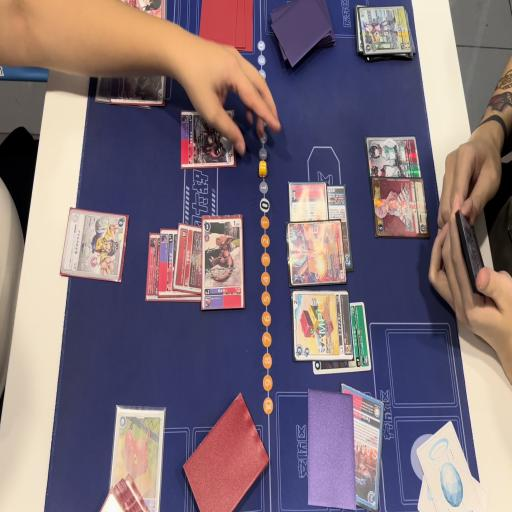card: (108, 402, 167, 512), (338, 382, 384, 512), (59, 212, 132, 283), (200, 212, 246, 318), (292, 289, 350, 364), (311, 302, 369, 376), (285, 216, 343, 288), (179, 108, 237, 172), (364, 132, 423, 192), (372, 178, 428, 240), (112, 58, 168, 108), (325, 179, 354, 274), (360, 4, 409, 60), (175, 222, 210, 295), (288, 178, 328, 232), (158, 226, 182, 303), (142, 230, 164, 306), (92, 68, 117, 105)
